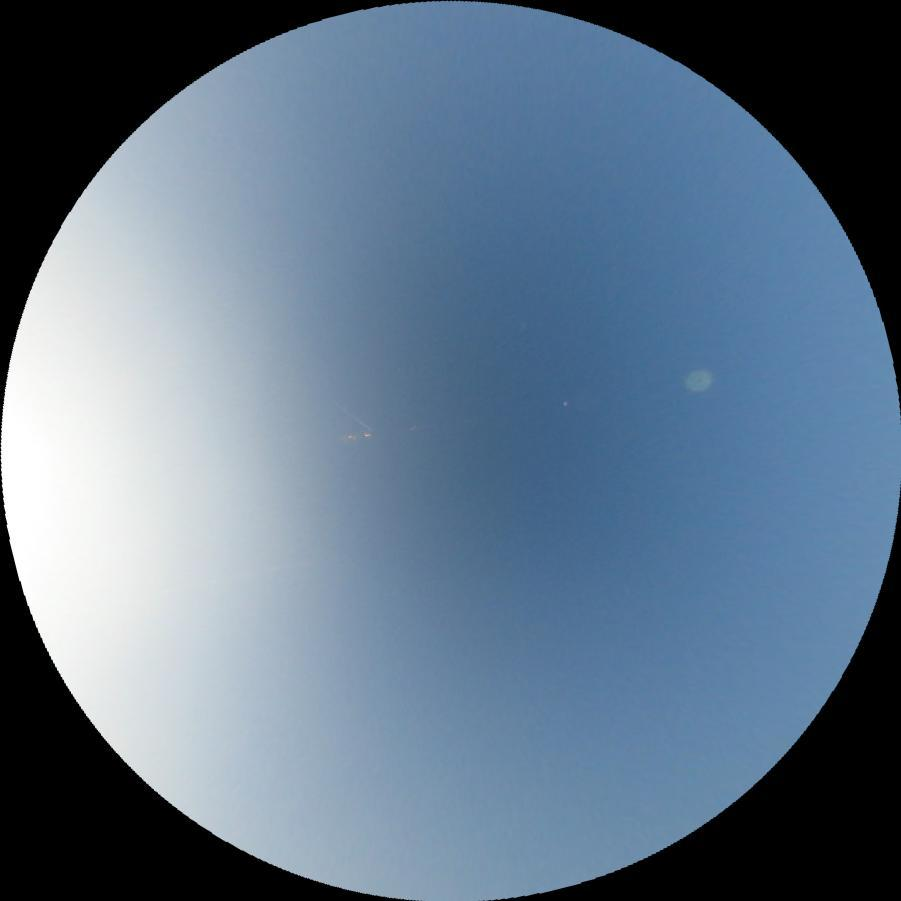contrail young: (326, 394, 374, 433)
